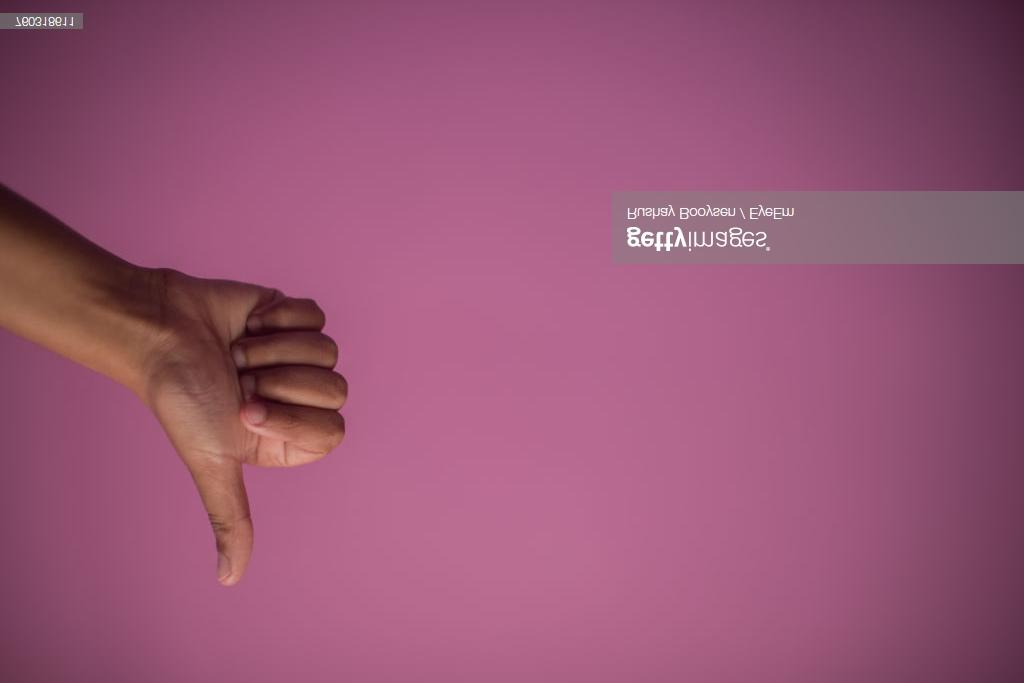thumbsdown: (200, 278, 348, 588)
